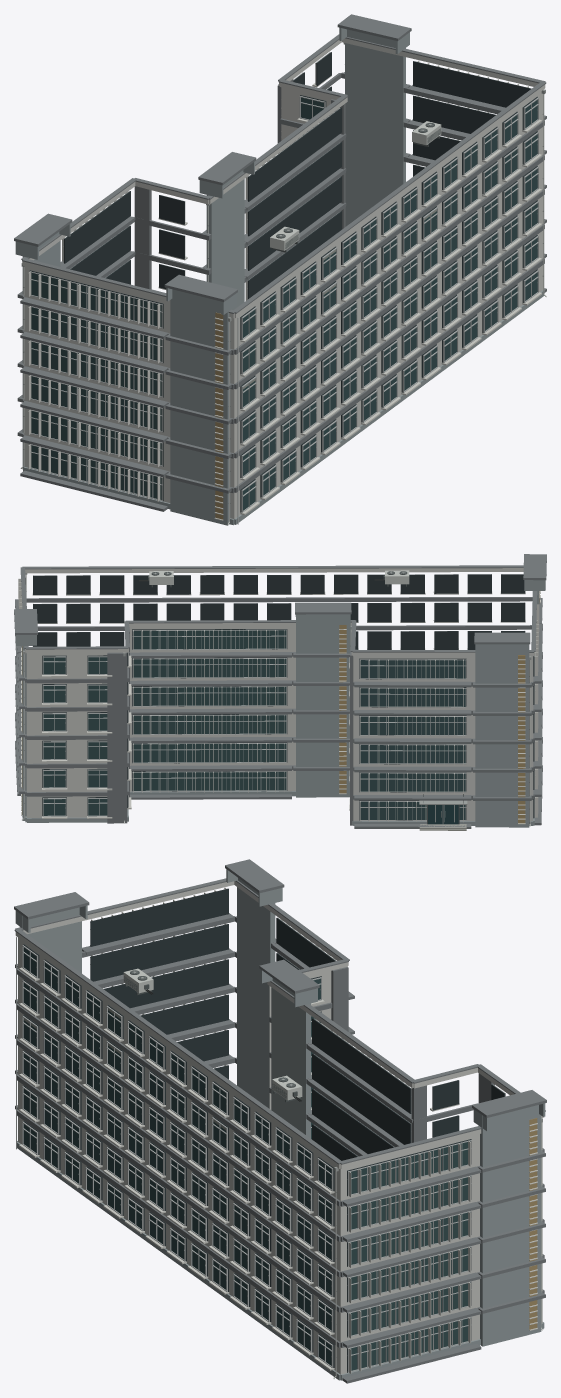
The model's file is osm_way_1173057036.glb.
3 views of the same model, one above another, from view 1: azimuth 30°, elevation 25°; view 2: azimuth 150°, elevation 25°; view 3: azimuth 270°, elevation 25° (orthographic). The views are drawn at different scales.
Parts seen in each view (by area): view 1: Windows and facade details | 樱苑52栋, Architecture | 樱苑52栋, Roof services | 樱苑52栋, EXTERIOR::osm_way_1173057036::rainwater and roof service det; view 2: Architecture | 樱苑52栋, Windows and facade details | 樱苑52栋, Roof services | 樱苑52栋, EXTERIOR::osm_way_1173057036::rainwater and roof service det, EXTERIOR::osm_way_1173057036::inferred entry doors canopy an; view 3: Windows and facade details | 樱苑52栋, Architecture | 樱苑52栋, Roof services | 樱苑52栋, EXTERIOR::osm_way_1173057036::rainwater and roof service det.
Boxes of the visible parts, x1,y1,x2,y2 form: Windows and facade details | 樱苑52栋: (28, 52, 541, 524); Architecture | 樱苑52栋: (17, 29, 546, 525); Roof services | 樱苑52栋: (14, 14, 546, 314); EXTERIOR::osm_way_1173057036::rainwater and roof service det: (20, 43, 546, 524); Architecture | 樱苑52栋: (15, 568, 542, 828); Windows and facade details | 樱苑52栋: (18, 574, 540, 824); Roof services | 樱苑52栋: (14, 554, 546, 655); EXTERIOR::osm_way_1173057036::rainwater and roof service det: (22, 570, 531, 826); EXTERIOR::osm_way_1173057036::inferred entry doors canopy an: (419, 794, 467, 830); Windows and facade details | 樱苑52栋: (16, 887, 537, 1373); Architecture | 樱苑52栋: (15, 878, 545, 1383); Roof services | 樱苑52栋: (14, 859, 546, 1164); EXTERIOR::osm_way_1173057036::rainwater and roof service det: (123, 968, 542, 1378).
Size of the model in its own units: 56.67 by 21.28 by 43.76.
